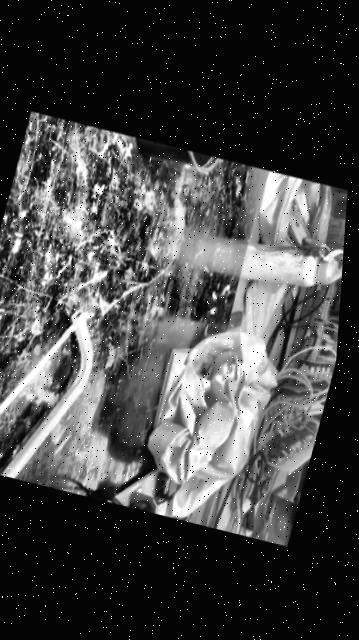pot: (122, 136, 222, 178)
